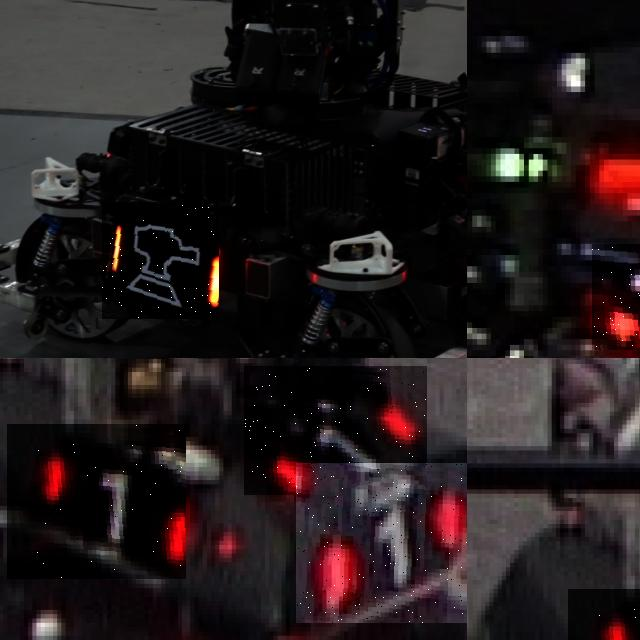R1: (7, 424, 186, 579), (296, 463, 467, 623), (244, 366, 427, 495)
R3: (592, 243, 640, 350)
Rs: (102, 202, 219, 319)
